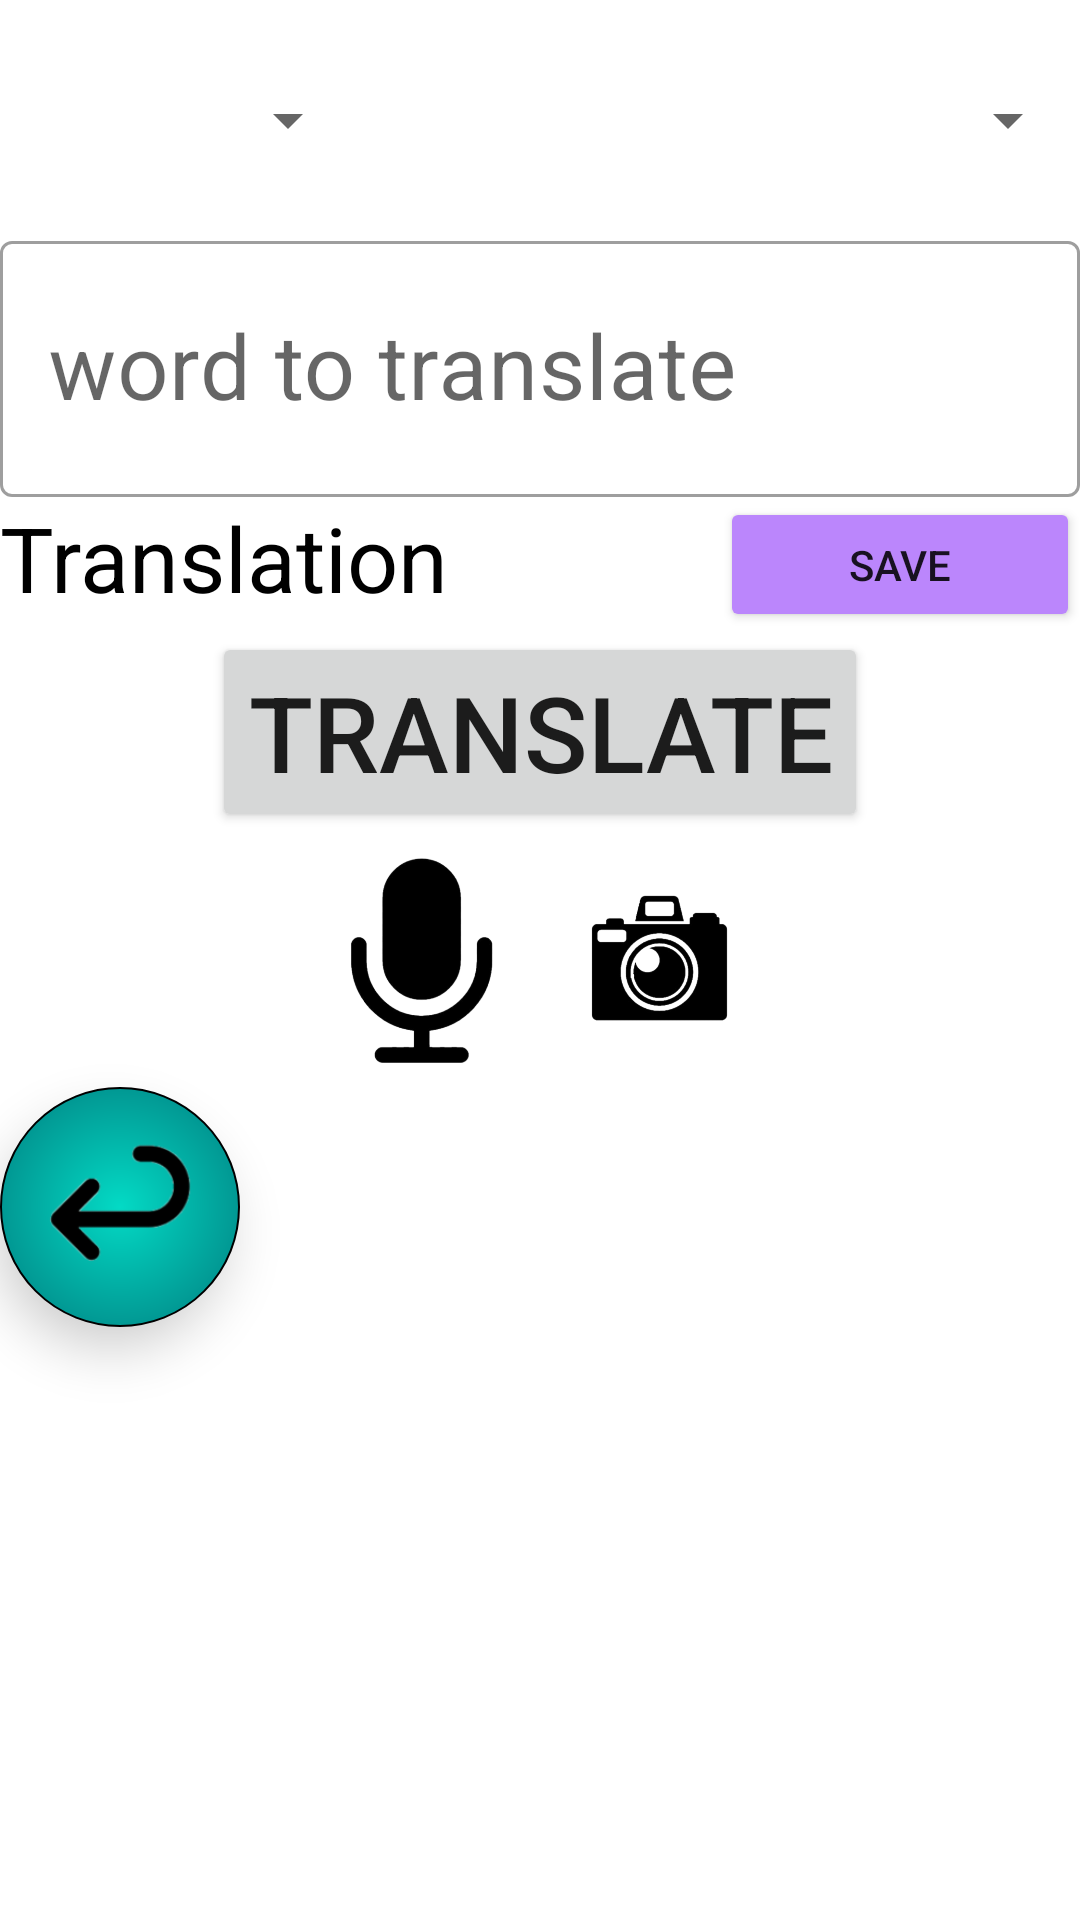

Icons on this 1080px×1920px Android screen, each with its box as (x1, y1, x2, y2):
backward arrow: (0, 1087, 240, 1327)
camera: (592, 895, 727, 1021)
mic: (351, 858, 493, 1063)
